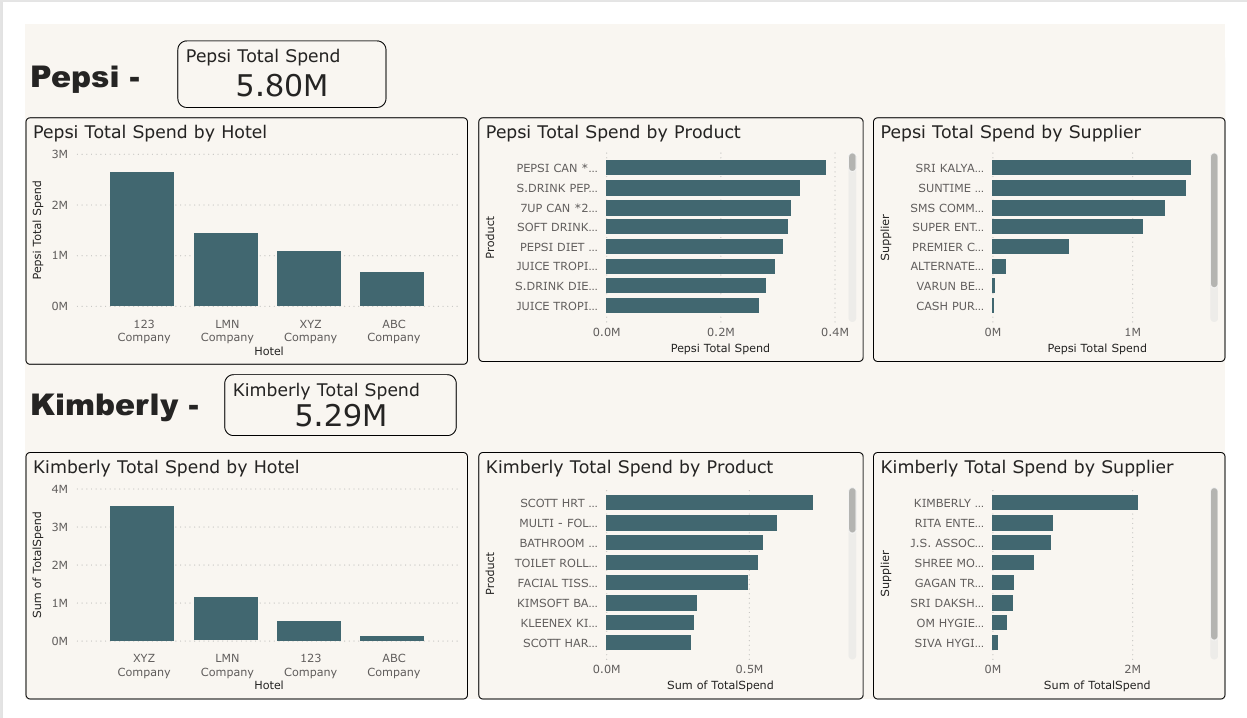

What the dashboard file says about the page in this screenshot:
{"tool":"powerbi","page":{"name":"Pepsi & Kimberly Analysis","canvas":[1280,720],"ordinal":1},"visuals":[{"type":"card","title":"Pepsi Total Spend","fields":{"Values":["Sum(Pepsi.TotalSpend)"]},"box":[161.7,16.9,223.2,72.4],"z":0},{"type":"barChart","fields":{"Category":["Sheet2.Product"],"Y":["Sheet2.Pepsi Total Spend"]},"box":[483,99,410.9,260.5],"z":1000},{"type":"clusteredBarChart","fields":{"Category":["Sheet2.Supplier"],"Y":["Sheet2.Pepsi Total Spend"]},"box":[903.7,99,376.6,260.5],"z":2000},{"type":"clusteredColumnChart","fields":{"Category":["Sheet2.Hotel"],"Y":["Sheet2.Pepsi Total Spend"]},"box":[0,99,472,264.1],"z":3000},{"type":"clusteredColumnChart","title":"Kimberly Total Spend by Hotel","fields":{"Y":["Sum(Kimberly.TotalSpend)"],"Category":["Kimberly.Hotel"]},"box":[0,456.1,472,264.1],"z":4000},{"type":"clusteredBarChart","title":"Kimberly Total Spend by Supplier","fields":{"Category":["Kimberly.Supplier"],"Y":["Sum(Kimberly.TotalSpend)"]},"box":[903.7,456.1,376.6,264.1],"z":5000},{"type":"barChart","title":"Kimberly Total Spend by Product","fields":{"Category":["Kimberly.Product"],"Y":["Sum(Kimberly.TotalSpend)"]},"box":[483,456.1,410.9,264.1],"z":6000},{"type":"card","title":"Kimberly Total Spend","fields":{"Values":["Sum(Kimberly.TotalSpend)"]},"box":[212.3,372.8,247.3,66.4],"z":7000},{"type":"textbox","box":[0,26.9,146.7,62.4],"z":8000},{"type":"textbox","box":[0,376.6,196.9,62.4],"z":9000}]}

Visuals, with their boxes in screenshot pixels (x1, y1, x2, y2), scaled from the page's 1280x720 canvas onto the 1247x718 screenshot:
"Pepsi Total Spend" card: box(158, 17, 375, 89)
barChart - Sheet2.Product x Sheet2.Pepsi Total Spend: box(471, 99, 871, 359)
clusteredBarChart - Sheet2.Supplier x Sheet2.Pepsi Total Spend: box(880, 99, 1246, 359)
clusteredColumnChart - Sheet2.Hotel x Sheet2.Pepsi Total Spend: box(0, 99, 460, 362)
"Kimberly Total Spend by Hotel" clusteredColumnChart: box(0, 455, 460, 717)
"Kimberly Total Spend by Supplier" clusteredBarChart: box(880, 455, 1246, 717)
"Kimberly Total Spend by Product" barChart: box(471, 455, 871, 717)
"Kimberly Total Spend" card: box(207, 372, 448, 438)
textbox: box(0, 27, 143, 89)
textbox: box(0, 376, 192, 438)
